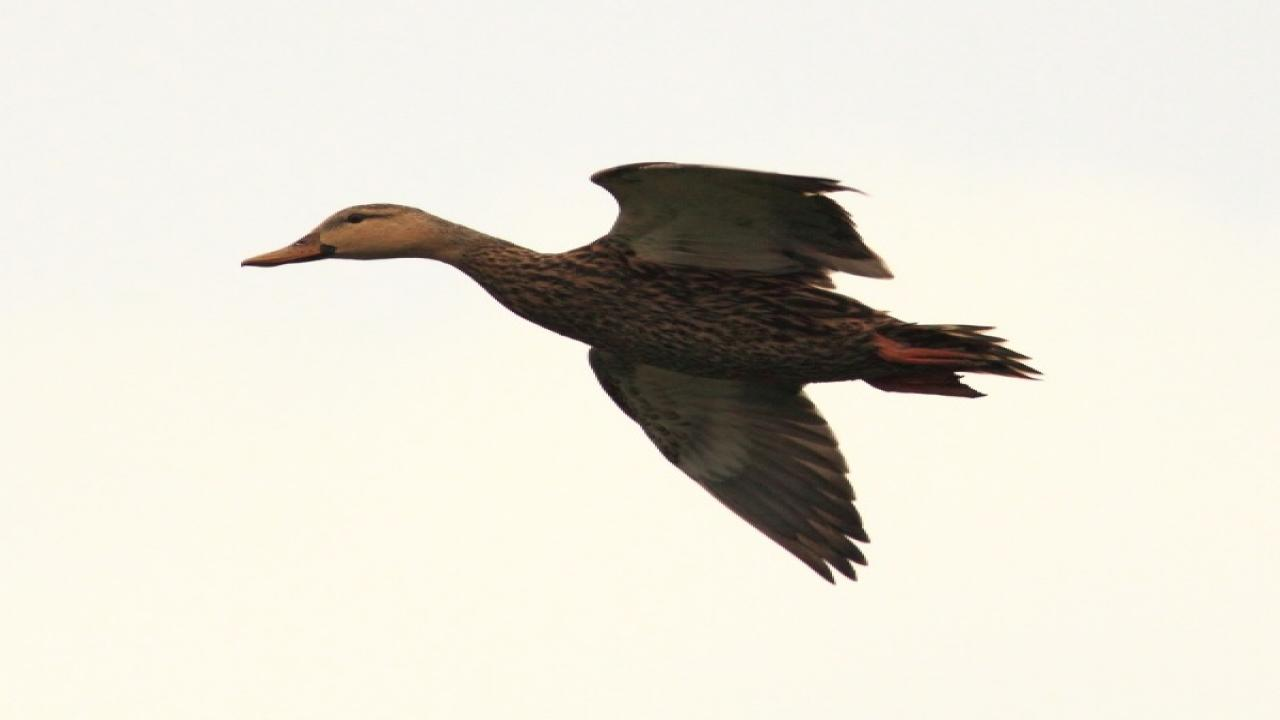Bird: (226, 151, 1058, 592)
